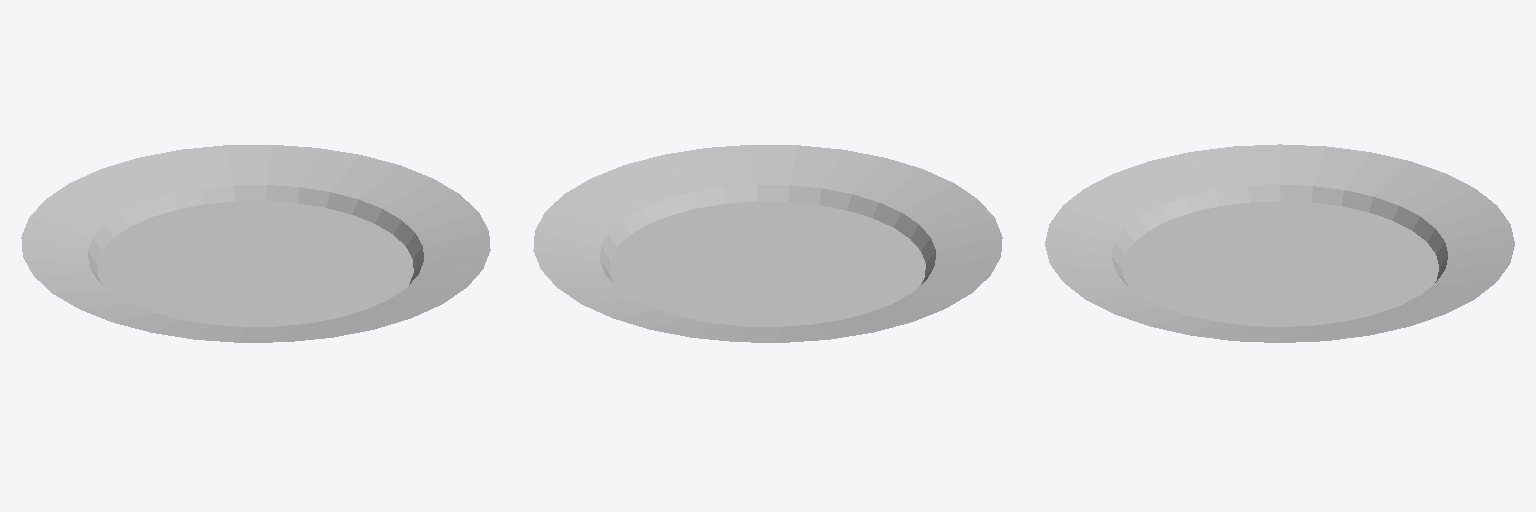
Rendered from Dish.obj.
3 views of the same model, side by side, from view 1: azimuth 30°, elevation 25°; view 2: azimuth 150°, elevation 25°; view 3: azimuth 270°, elevation 25° (orthographic).
Visible parts, largest first — view 1: Cylinder; view 2: Cylinder; view 3: Cylinder.
Part boxes in pixels (left/top/right/bottom): Cylinder: left=21, top=145, right=490, bottom=342; Cylinder: left=533, top=145, right=1002, bottom=342; Cylinder: left=1045, top=144, right=1514, bottom=342.
Bounding box in the file's own units: 2.96 × 0.1698 × 2.96.